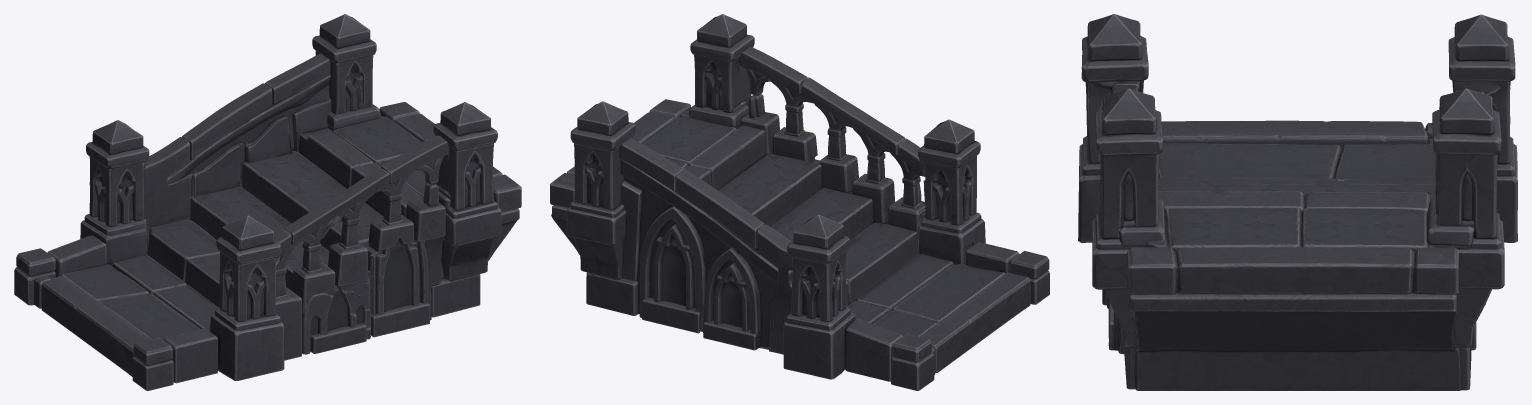
Rendered from ENV_Stairs_Up.fbx.
The picture shows the model from 3 angles, left to right: view 1: azimuth 30°, elevation 25°; view 2: azimuth 150°, elevation 25°; view 3: azimuth 270°, elevation 25°; orthographic projection. The views are drawn at different scales.
Visible parts, largest first — view 1: Mesh_0; view 2: Mesh_0; view 3: Mesh_0.
Boxes of the visible parts, x1,y1,x2,y2 form: Mesh_0: (14, 14, 521, 390); Mesh_0: (550, 14, 1049, 390); Mesh_0: (1078, 14, 1517, 390).
Bounding box in the file's own units: 23.27 × 12 × 16.46.
Materials: 1 (1 with a texture image).
